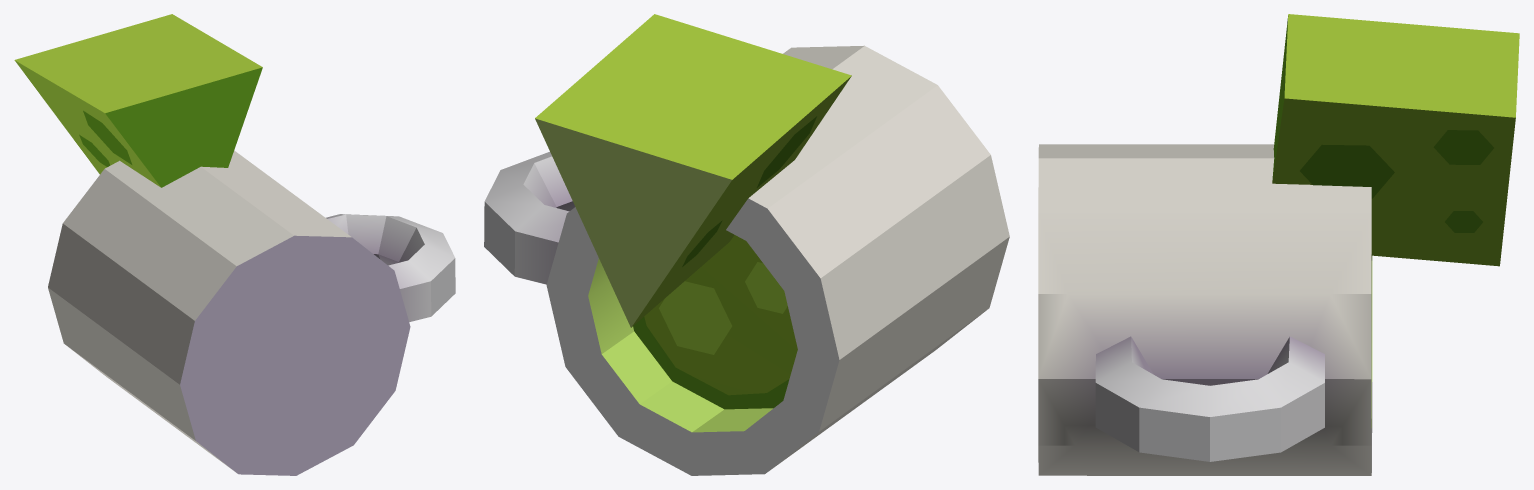
Rendered from cheeseMug.fbx.
3 views of the same model, side by side, from view 1: azimuth 30°, elevation 25°; view 2: azimuth 150°, elevation 25°; view 3: azimuth 270°, elevation 25° (orthographic). The views are drawn at different scales.
Parts seen in each view (by area): view 1: cheeseMug; view 2: cheeseMug; view 3: cheeseMug.
Boxes of the visible parts, x1=… form: cheeseMug: x1=14, y1=14, x2=455, y2=475; cheeseMug: x1=484, y1=14, x2=1009, y2=475; cheeseMug: x1=1038, y1=14, x2=1519, y2=475.
Size of the model in its own units: 17.55 by 16.25 by 17.6.
